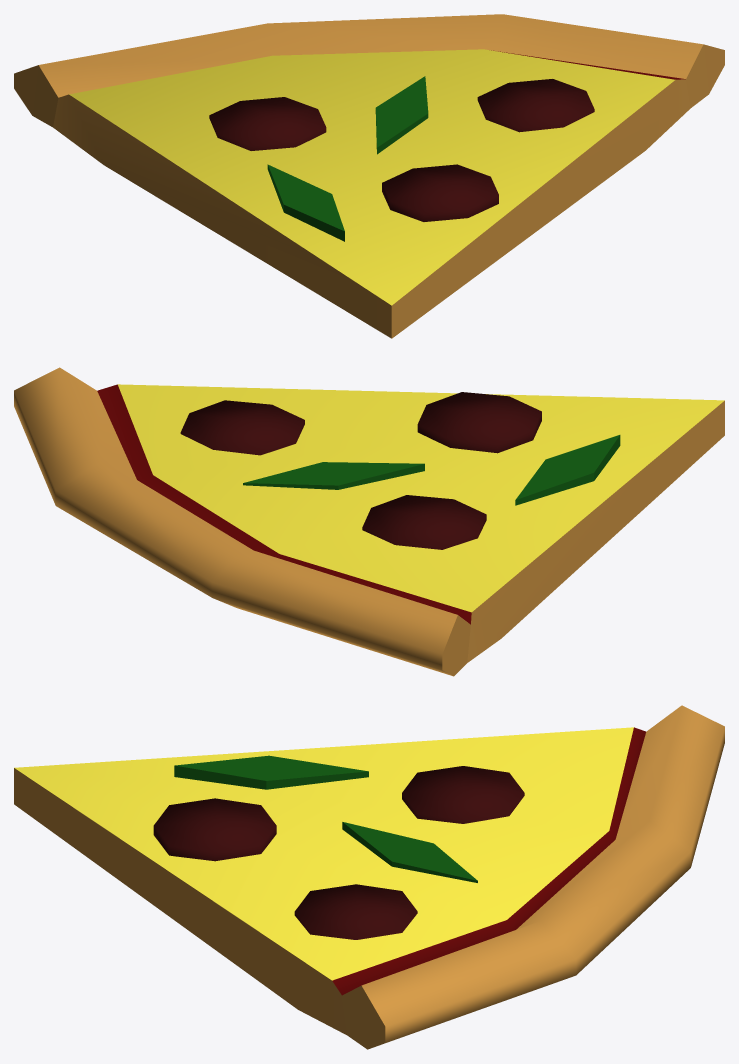
The model's file is Slice001.FBX.
The picture shows the model from 3 angles, top to bottom: view 1: azimuth 30°, elevation 25°; view 2: azimuth 150°, elevation 25°; view 3: azimuth 270°, elevation 25°; orthographic projection. The views are drawn at different scales.
Visible parts, largest first — view 1: Slice001; view 2: Slice001; view 3: Slice001.
Part boxes in pixels (x1=…): Slice001: x1=14, y1=14, x2=724, y2=338; Slice001: x1=14, y1=367, x2=724, y2=676; Slice001: x1=14, y1=705, x2=724, y2=1049.
Bounding box in the file's own units: 7.66 × 0.8516 × 7.66.
